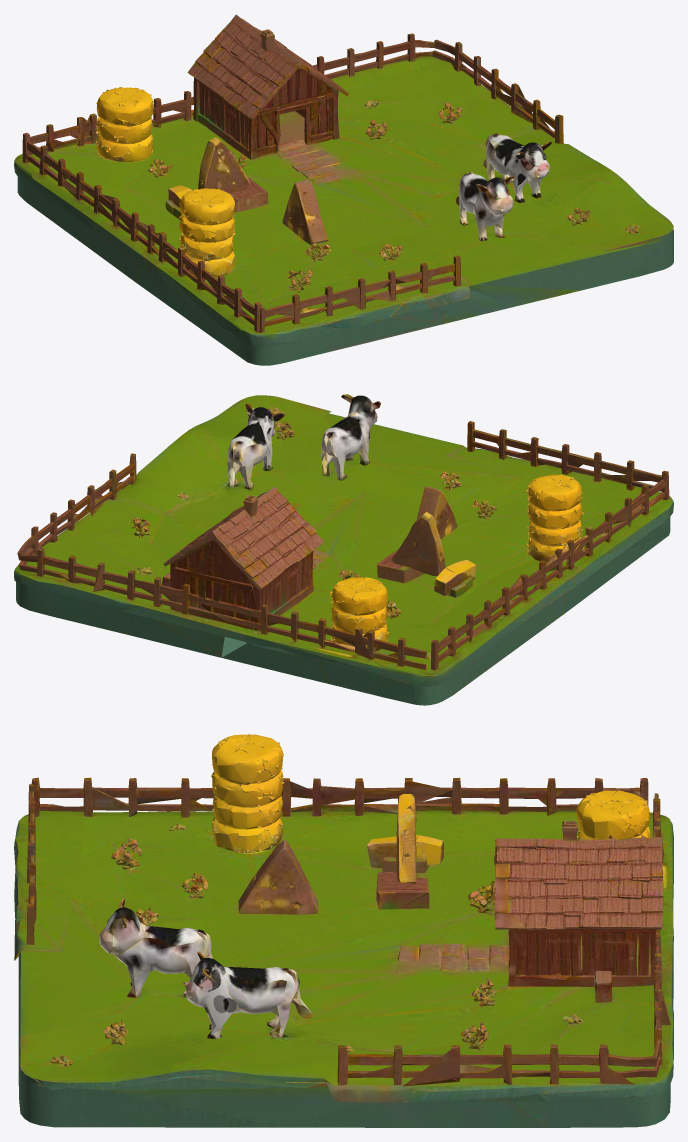
File: ilha-queijo.glb
3 views of the same model, one above another, from view 1: azimuth 30°, elevation 25°; view 2: azimuth 150°, elevation 25°; view 3: azimuth 270°, elevation 25° (orthographic). The views are drawn at different scales.
Size of the model in its own units: 1.9 by 0.5469 by 1.9.
1 material, 1 textured.
